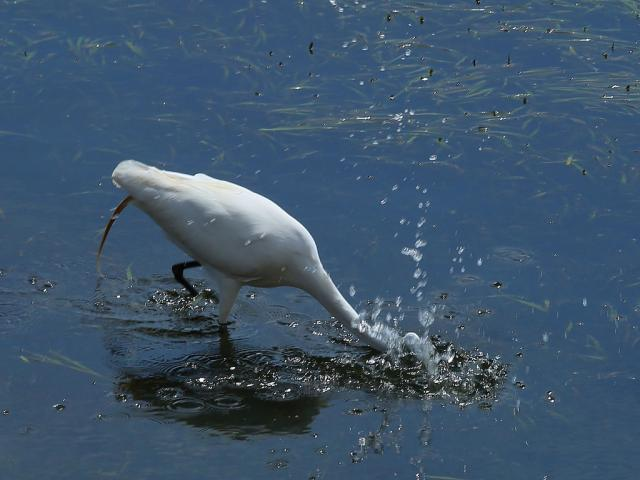Bird: (94, 161, 438, 361)
